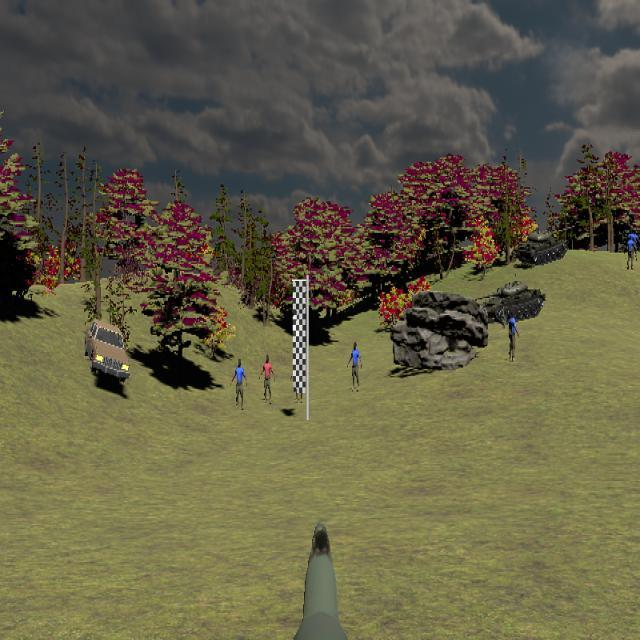Human: (231, 358, 248, 410), (259, 354, 275, 403), (347, 340, 362, 392), (623, 230, 638, 271)
Tank: (473, 279, 546, 324), (514, 228, 570, 266)
car: (85, 320, 130, 383)
